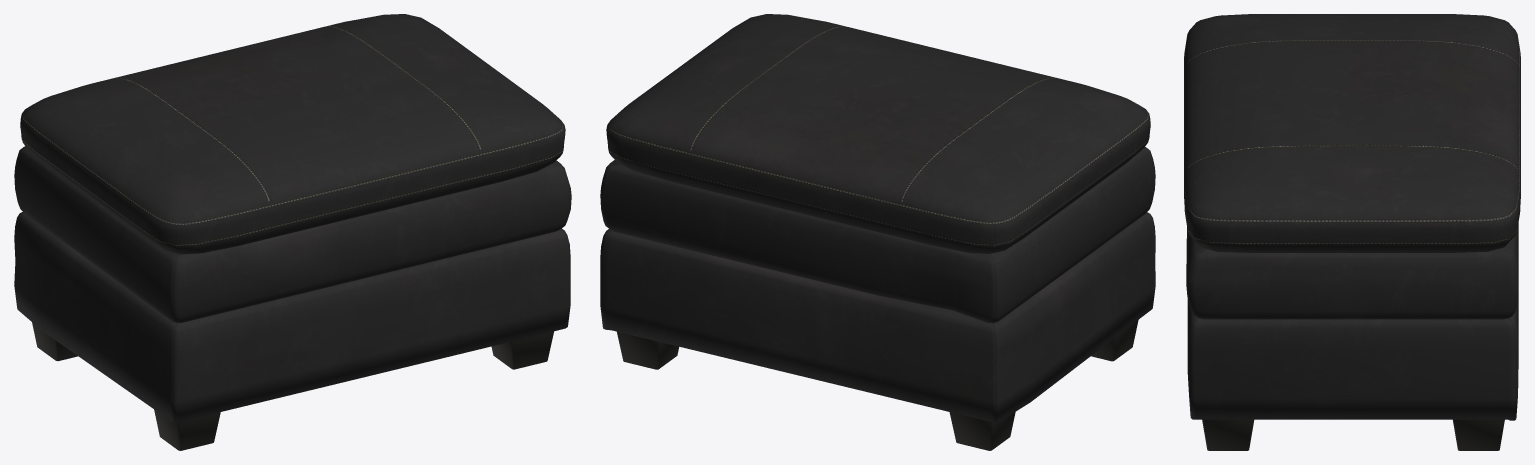
The picture shows the model from 3 angles, left to right: view 1: azimuth 30°, elevation 25°; view 2: azimuth 150°, elevation 25°; view 3: azimuth 270°, elevation 25°; orthographic projection. The views are drawn at different scales.
Parts seen in each view (by area): view 1: final_low; view 2: final_low; view 3: final_low.
Boxes of the visible parts, box(x1,y1,x2,y2) form: final_low: box(14, 14, 571, 450); final_low: box(600, 14, 1155, 450); final_low: box(1184, 14, 1520, 450).
Size of the model in its own units: 1.51 by 0.9302 by 1.06.
Materials: 1 (1 with a texture image).
